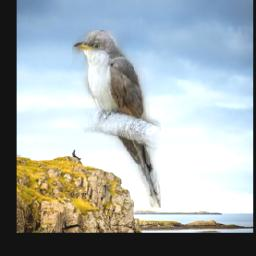Cuckoo: (72, 30, 161, 208)
